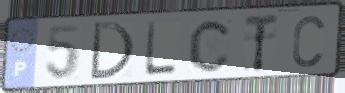5: (44, 24, 83, 82)
C: (187, 17, 235, 74), (290, 13, 327, 70)
D: (87, 20, 137, 81)
L: (142, 20, 180, 77)
T: (243, 12, 280, 74)
